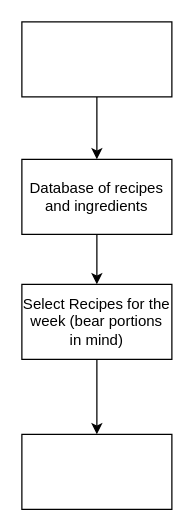
Image size: 194x531. Some labels were removed from this diagram. Each missing label, with the centre of its shape:
"Compile ingredients list from recipes" belongs at (96,471).
"Input recipe details via text file in specific order" belongs at (96,59).
